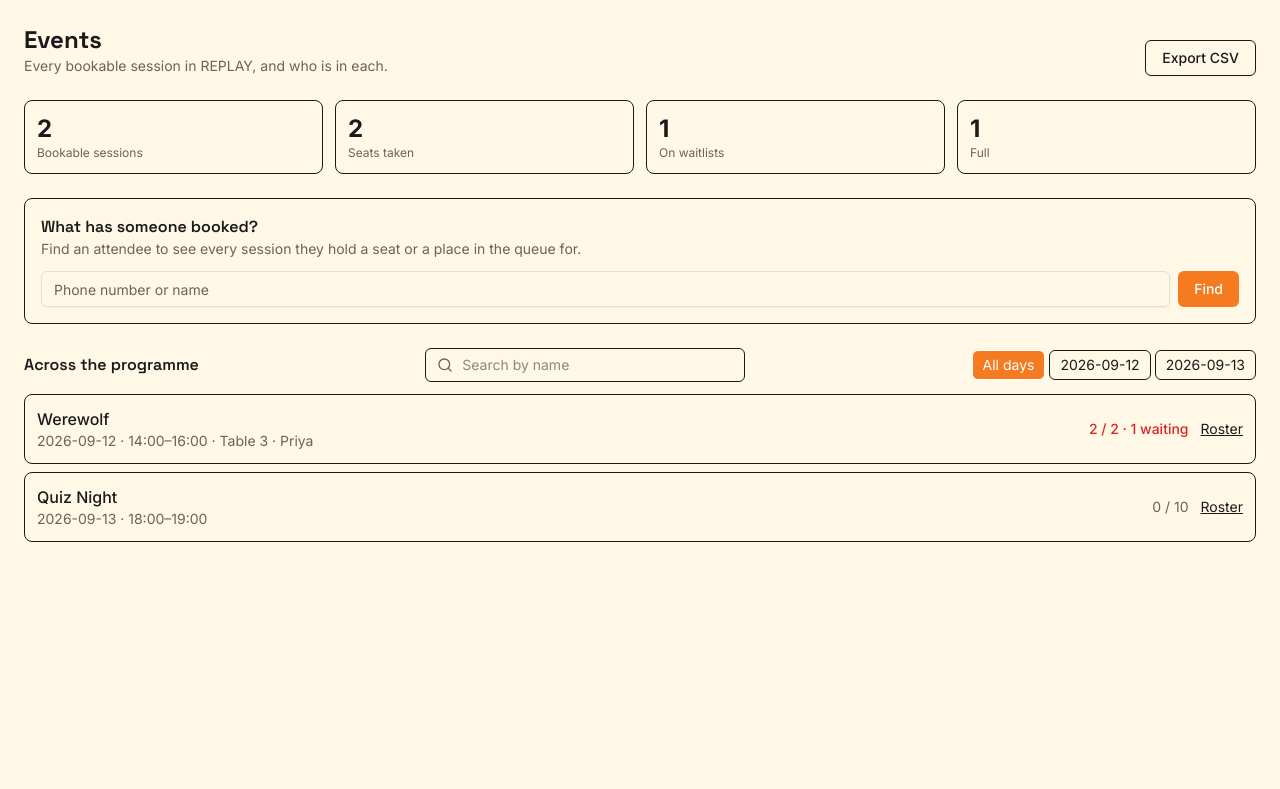
the state of the day › opens a session to show both lists, in queue order
This screenshot has width=1280, height=789.
Click the text "Werewolf" at (73, 419), box [37,409,109,429]
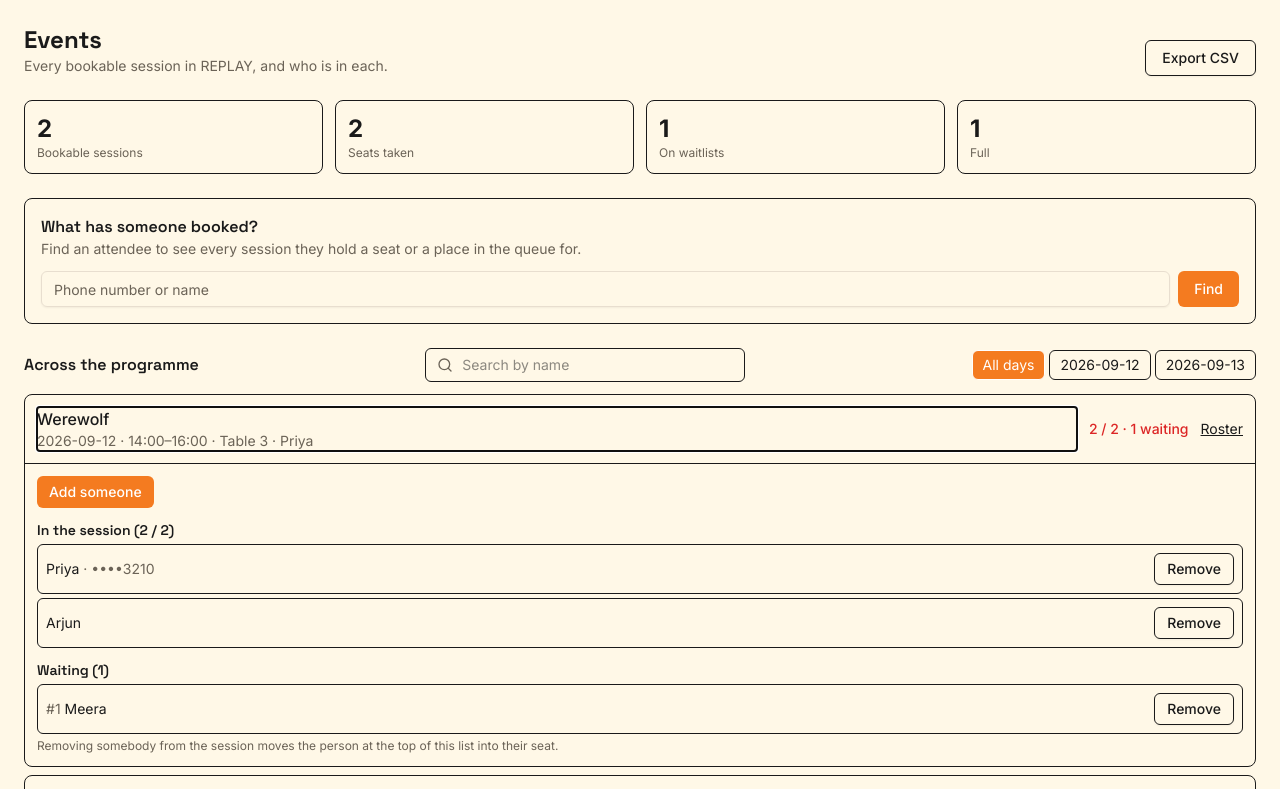
Expected: the heading "In the session (2 / 2)" is shown, [37,521,174,539]
Expected: the heading "Waiting (1)" is shown, [37,661,109,679]
Expected: the text "Meera" is shown, [64,700,107,717]
